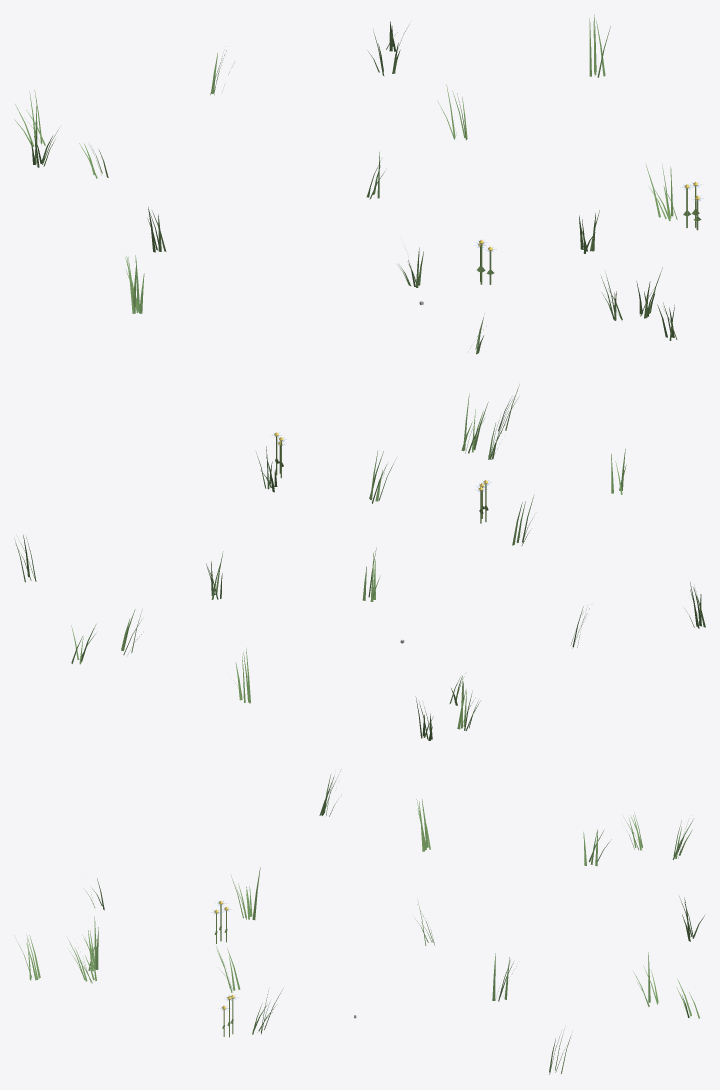
File: rv_meadow_b.gltf
3 renders of one model, top to bottom at view 1: azimuth 30°, elevation 25°; view 2: azimuth 150°, elevation 25°; view 3: azimuth 270°, elevation 25°, orthographic. The views are drawn at different scales.
Parts seen in each view (by area): view 1: RV_MeadowB; view 2: RV_MeadowB; view 3: RV_MeadowB.
Part boxes in pixels (<box>): RV_MeadowB: <box>14,14,703,354</box>; RV_MeadowB: <box>14,384,705,740</box>; RV_MeadowB: <box>14,769,705,1074</box>.
Bounding box in the file's own units: 4.97 × 1.03 × 5.44.
